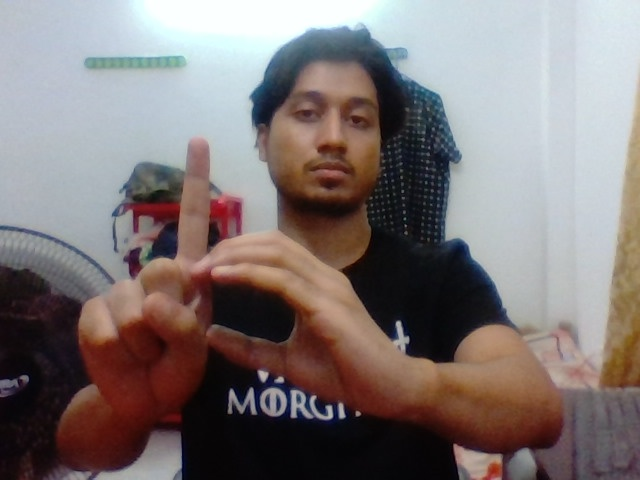D: (151, 128, 376, 391)
